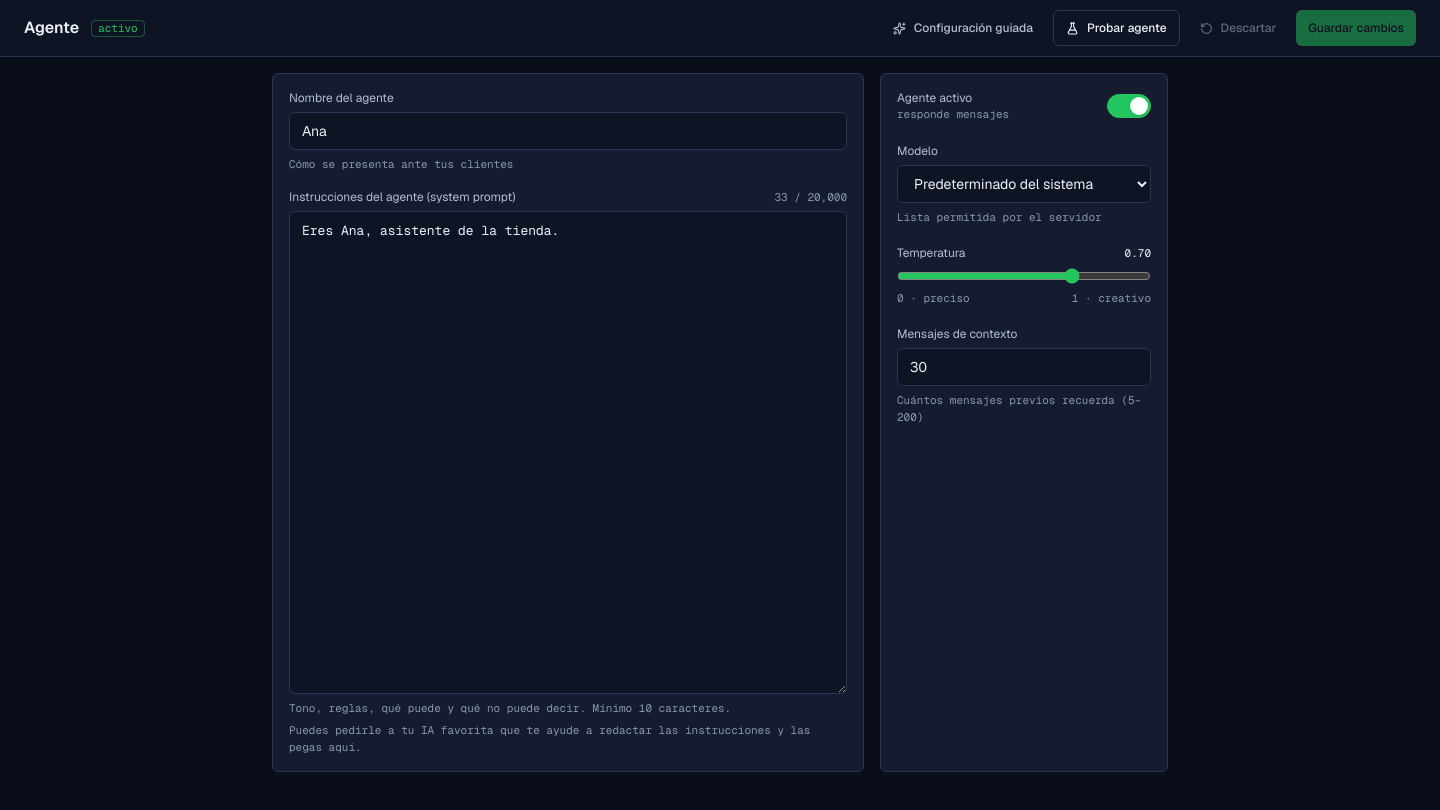
EditorAgente de un número › temperatura fuera de rango: muestra el mensaje del servidor
The width and height of the screenshot is (1440, 810).
Type "x" into the field showing "Ana".
click(568, 131); type("x")  # box [289,112,847,150]
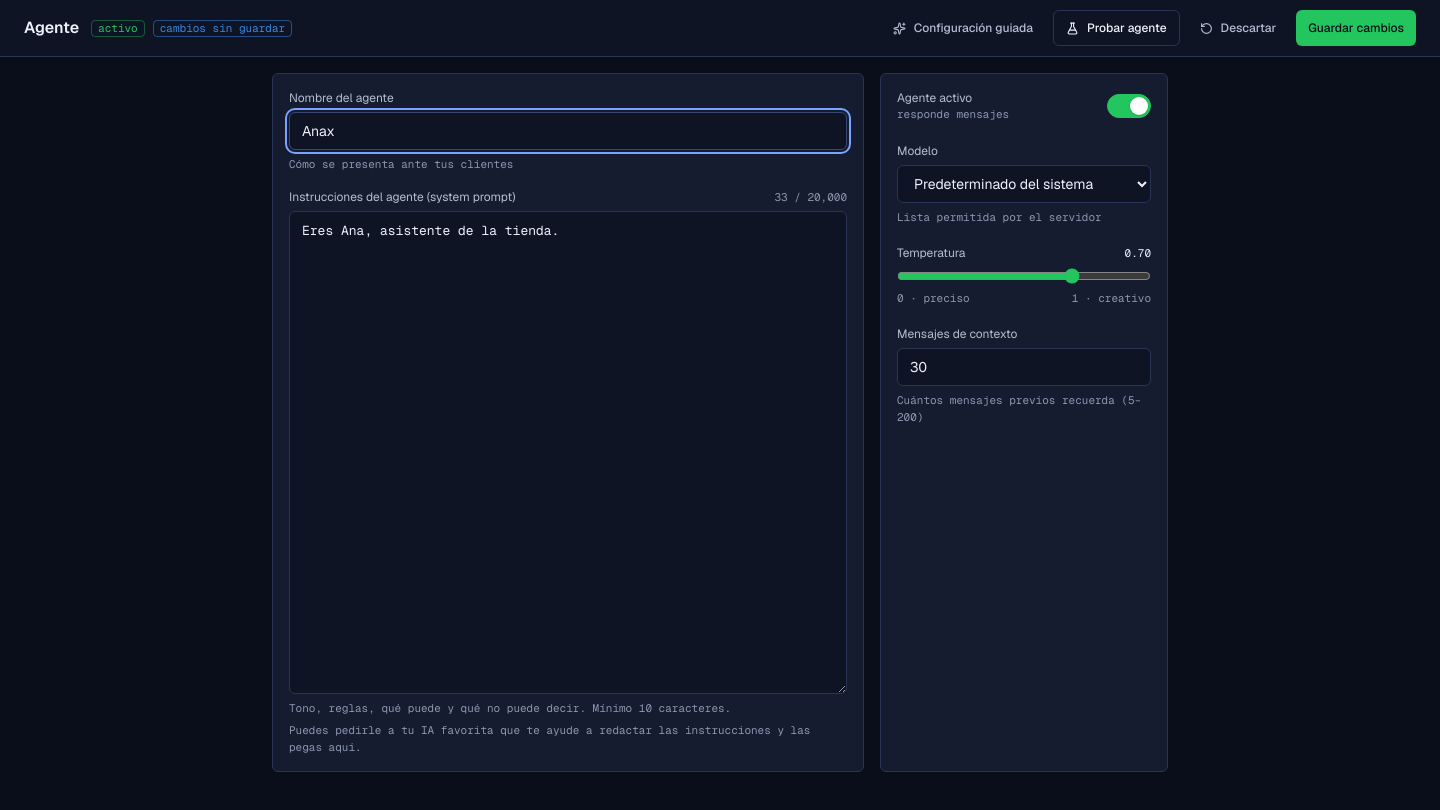
Click the button "Guardar cambios".
click(1356, 28)  # box [1296,10,1416,46]
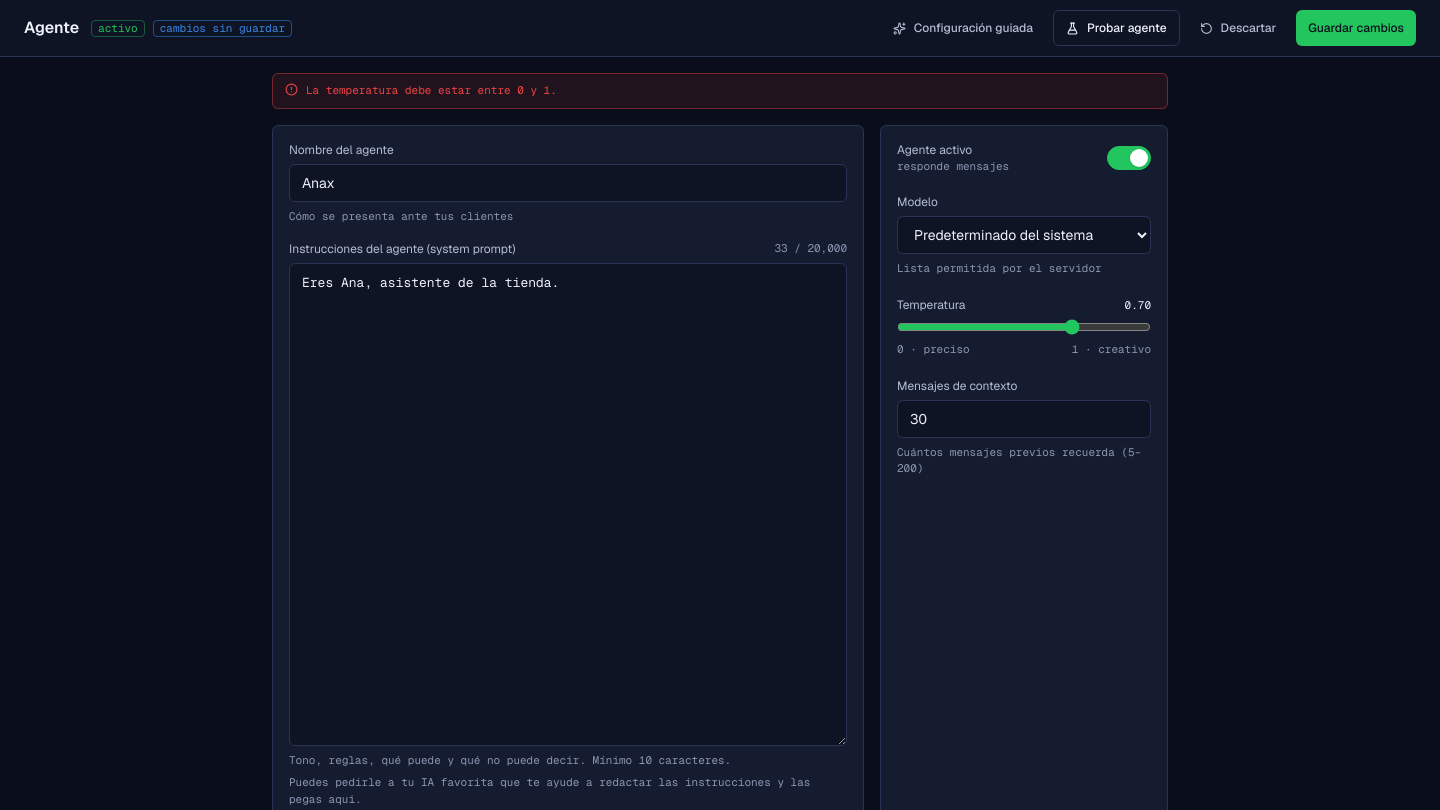
Now the text "La temperatura debe estar entre 0 y 1." is shown, box [306,83,557,97]
